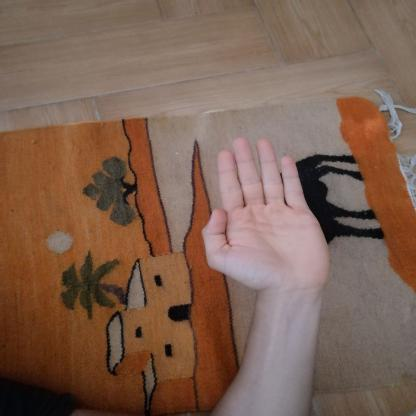SEEN: (188, 125, 343, 302)
